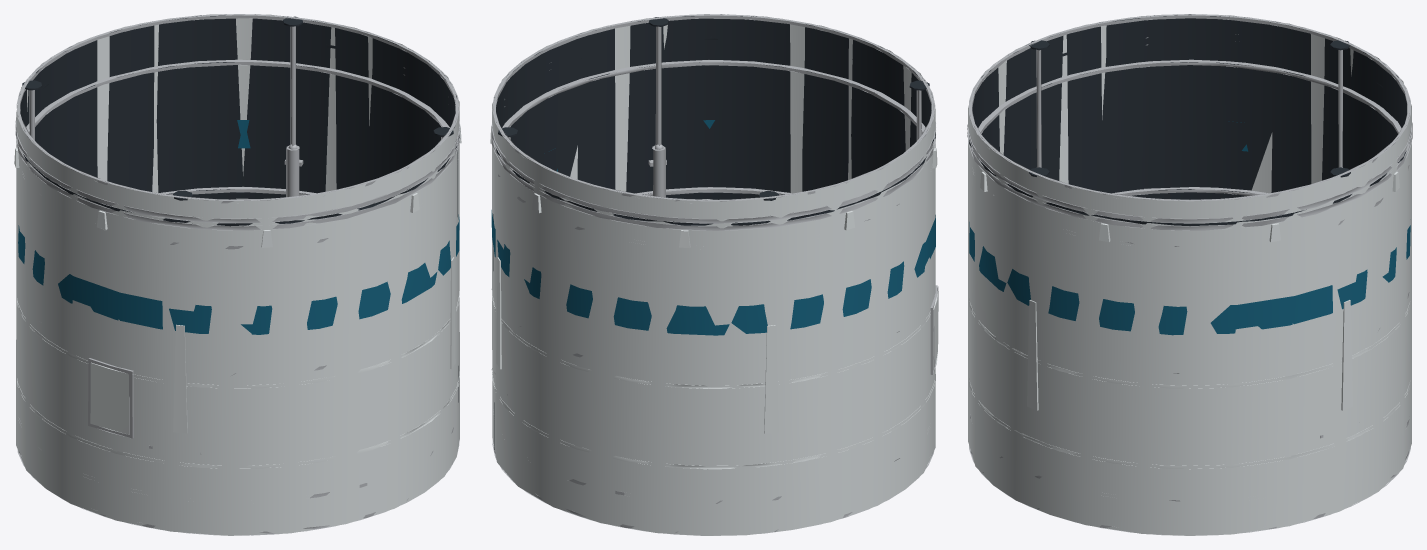
Rendered from interstage_pneumatic_d84.glb.
The picture shows the model from 3 angles, left to right: view 1: azimuth 30°, elevation 25°; view 2: azimuth 150°, elevation 25°; view 3: azimuth 270°, elevation 25°; orthographic projection.
Visible parts, largest first — view 1: interstage_pneumatic_d84_mesh; view 2: interstage_pneumatic_d84_mesh; view 3: interstage_pneumatic_d84_mesh.
Part boxes in pixels (bbox=[...]): interstage_pneumatic_d84_mesh: bbox=[14, 14, 461, 535]; interstage_pneumatic_d84_mesh: bbox=[490, 14, 938, 535]; interstage_pneumatic_d84_mesh: bbox=[967, 14, 1412, 535].
Size of the model in its own units: 8.43 by 7 by 8.45.
